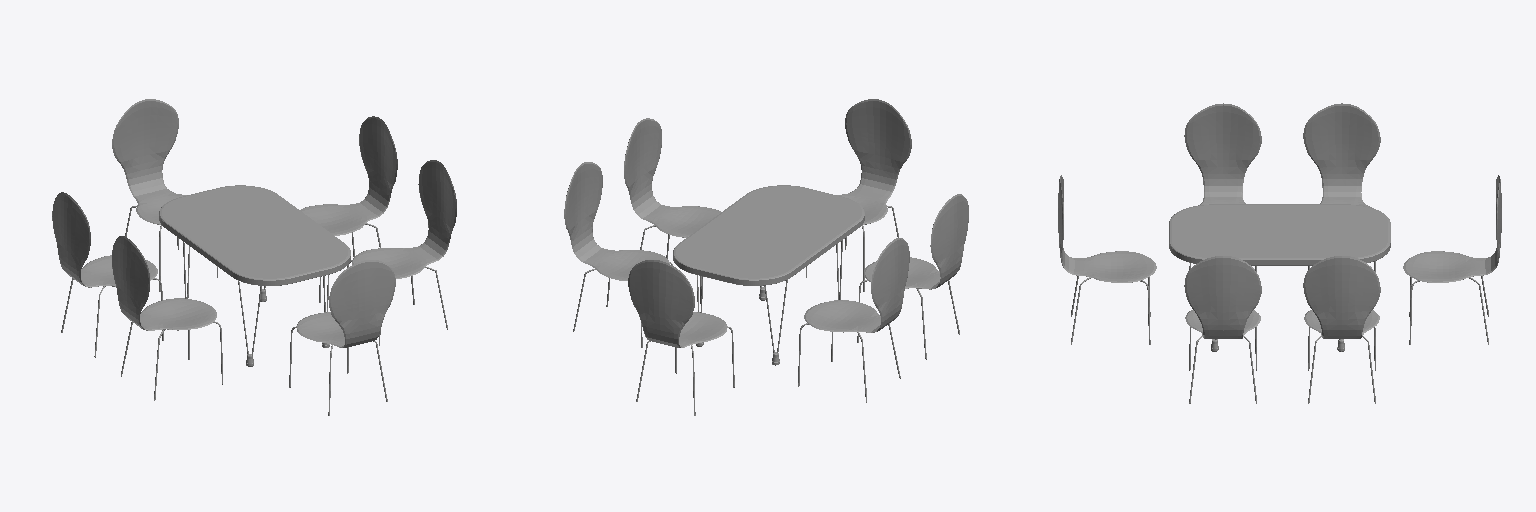
File: tavolo_sedie.obj
The picture shows the model from 3 angles: view 1: azimuth 30°, elevation 25°; view 2: azimuth 150°, elevation 25°; view 3: azimuth 270°, elevation 25°; orthographic projection.
Parts seen in each view (by area): view 1: 408d0c7ecb76a9c92ed[number redacted]b0b513b5203c9; view 2: 408d0c7ecb76a9c92ed[number redacted]b0b513b5203c9; view 3: 408d0c7ecb76a9c92ed[number redacted]b0b513b5203c9.
Part boxes in pixels (x1,y1,x2,y2): 408d0c7ecb76a9c92ed[number redacted]b0b513b5203c9: (52, 99, 456, 415); 408d0c7ecb76a9c92ed[number redacted]b0b513b5203c9: (564, 99, 968, 415); 408d0c7ecb76a9c92ed[number redacted]b0b513b5203c9: (1058, 103, 1501, 403).
Bounding box in the file's own units: 6.55 × 3.03 × 7.98.